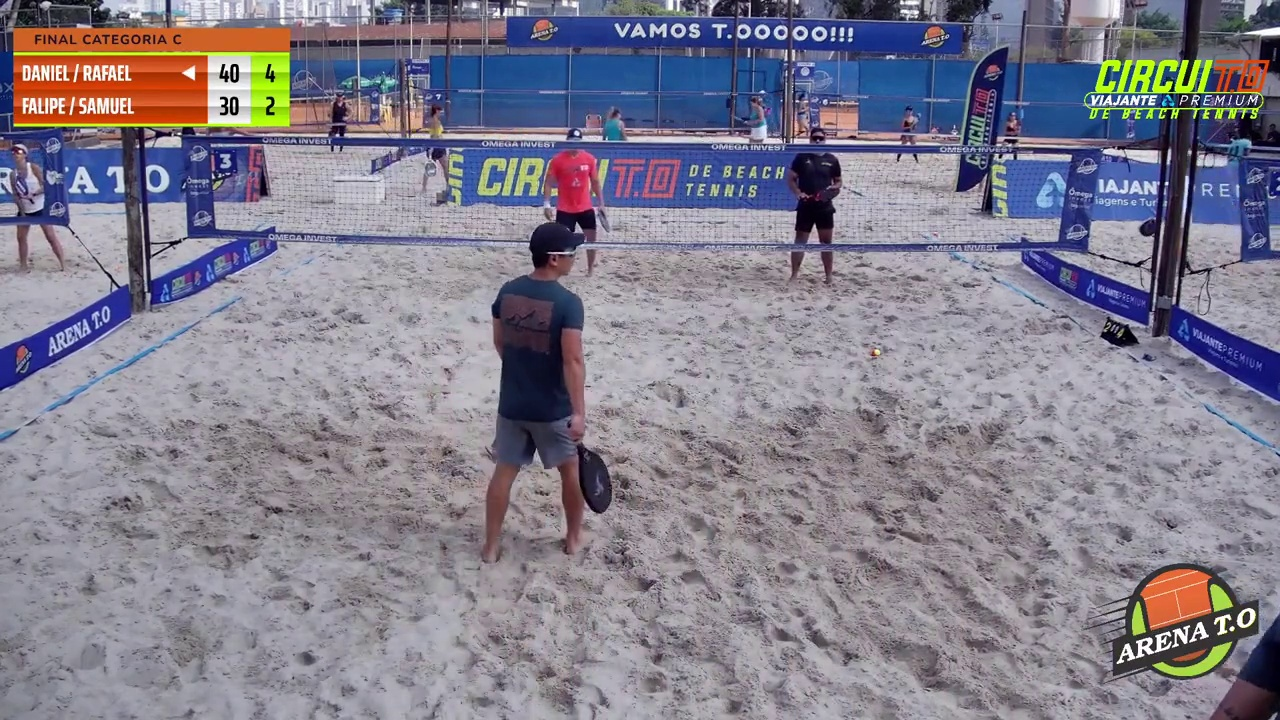court_line: (640, 0, 811, 291)
